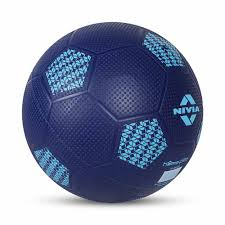football ball: (20, 22, 204, 204)
